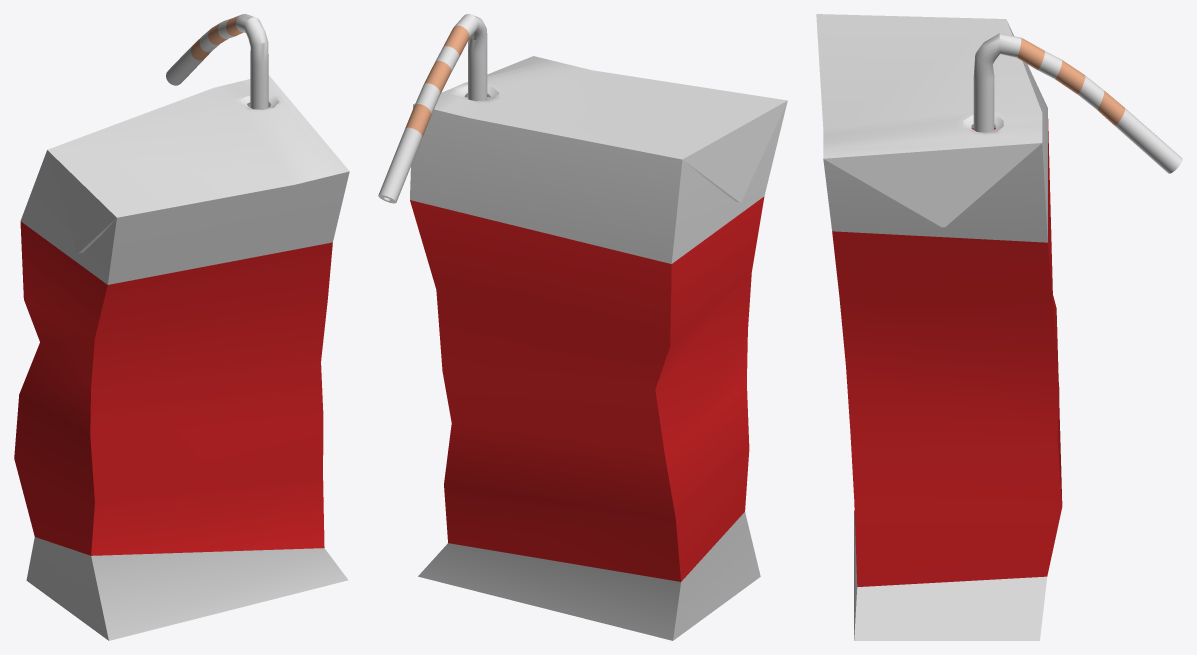
The model's file is cajaJugoDestruido.glb.
The picture shows the model from 3 angles, left to right: view 1: azimuth 30°, elevation 25°; view 2: azimuth 150°, elevation 25°; view 3: azimuth 270°, elevation 25°; orthographic projection. The views are drawn at different scales.
Visible parts, largest first — view 1: Cube; view 2: Cube; view 3: Cube.
Part boxes in pixels (x1,y1,x2,y2): Cube: (14,14,349,640); Cube: (378,14,787,640); Cube: (816,14,1182,640).
Bounding box in the file's own units: 2.04 × 4.07 × 2.26.
